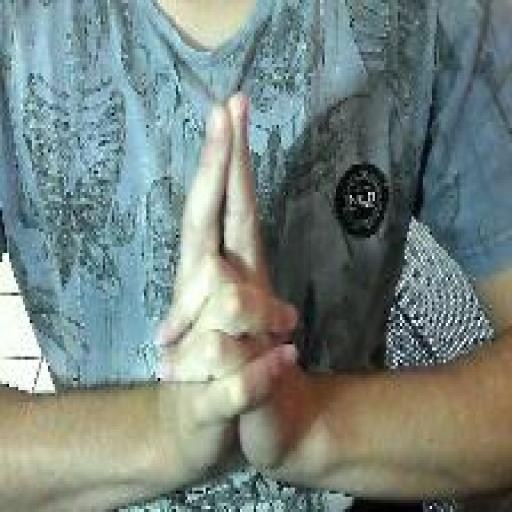Tora -tiger-: (150, 85, 305, 497)
